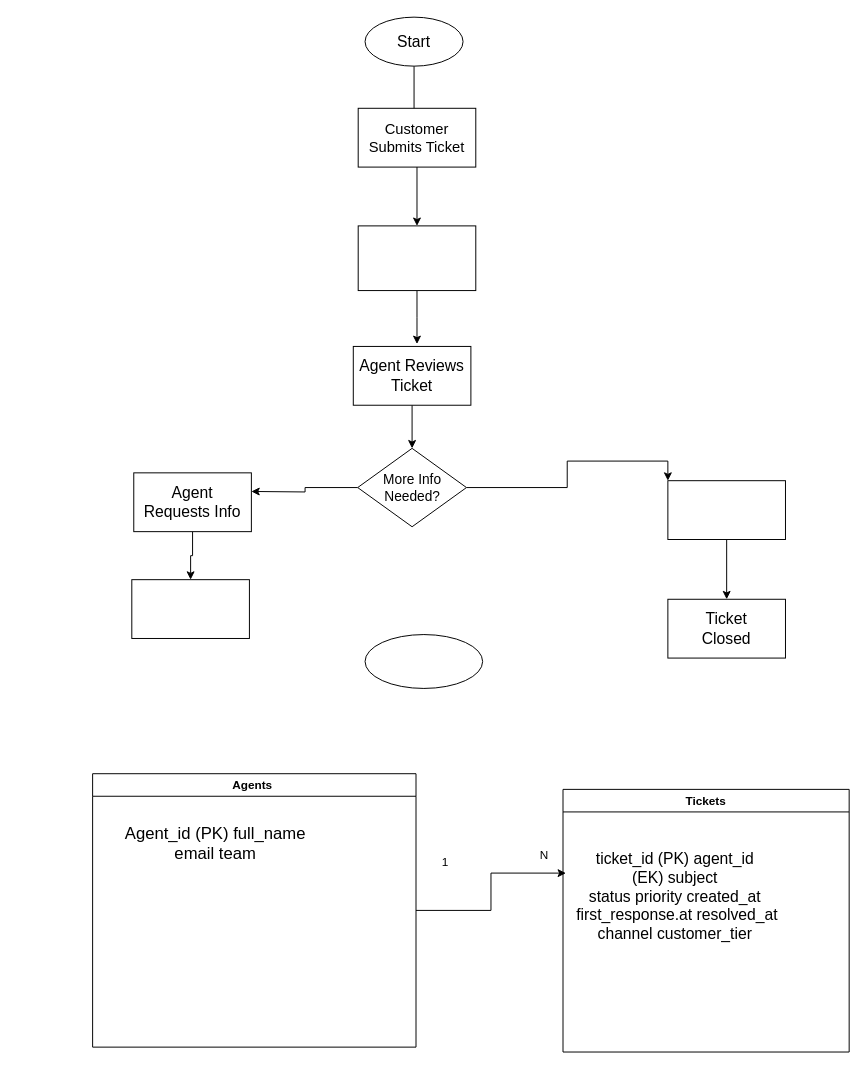
Image size: 866x1069. Some labels were removed from this diagram. Each missing label, with the centre of its shape:
"Agent Works on Ticket" belongs at point 726,509.
"Customer Responds" belongs at point 190,608.
"End" belongs at point 423,661.
"System Assigns Ticket" belongs at point 416,258.
